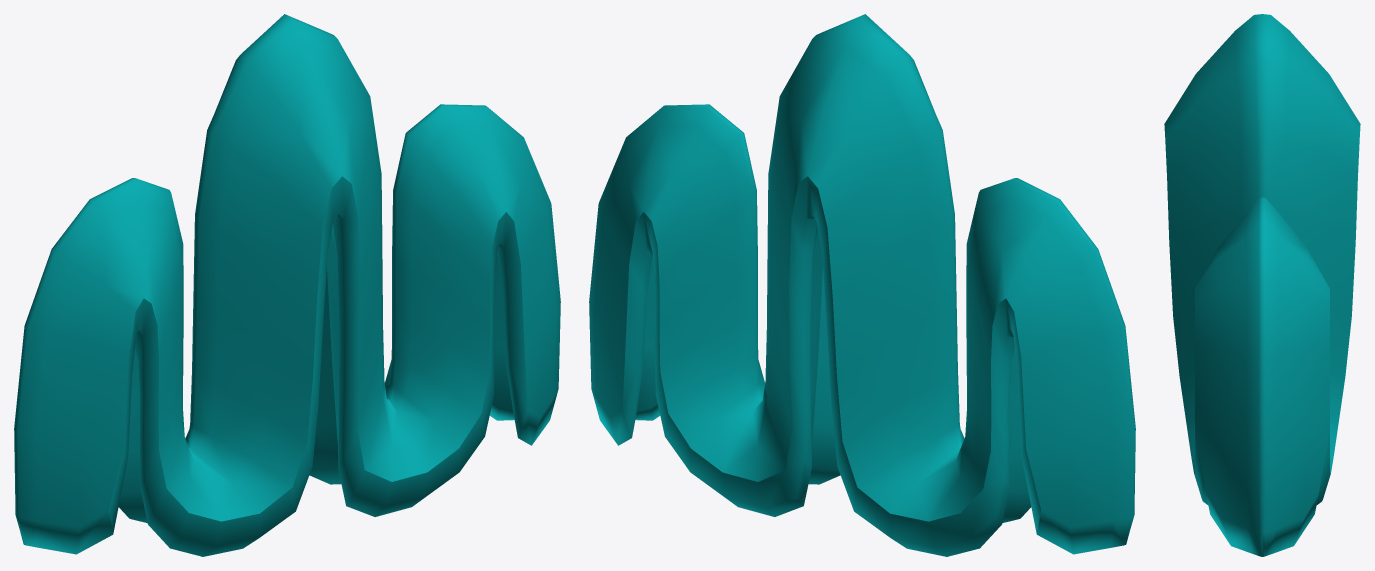
The model's file is bush_2.glb.
The picture shows the model from 3 angles, left to right: view 1: azimuth 30°, elevation 25°; view 2: azimuth 150°, elevation 25°; view 3: azimuth 270°, elevation 25°; orthographic projection. The views are drawn at different scales.
Visible parts, largest first — view 1: Bush_2; view 2: Bush_2; view 3: Bush_2.
Boxes of the visible parts, x1,y1,x2,y2 form: Bush_2: [14, 14, 560, 556]; Bush_2: [589, 14, 1135, 556]; Bush_2: [1164, 14, 1360, 556].
Size of the model in its own units: 1.82 by 1.6 by 0.6207.
Materials: 1 (1 with a texture image).
